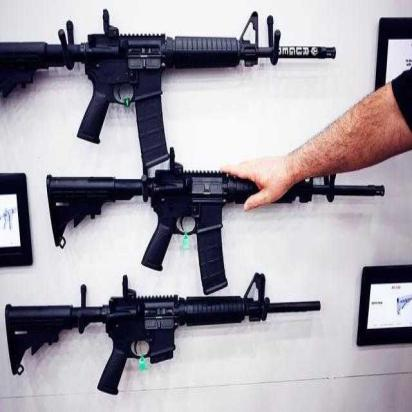Gun: (1, 5, 332, 140), (6, 279, 331, 398)
